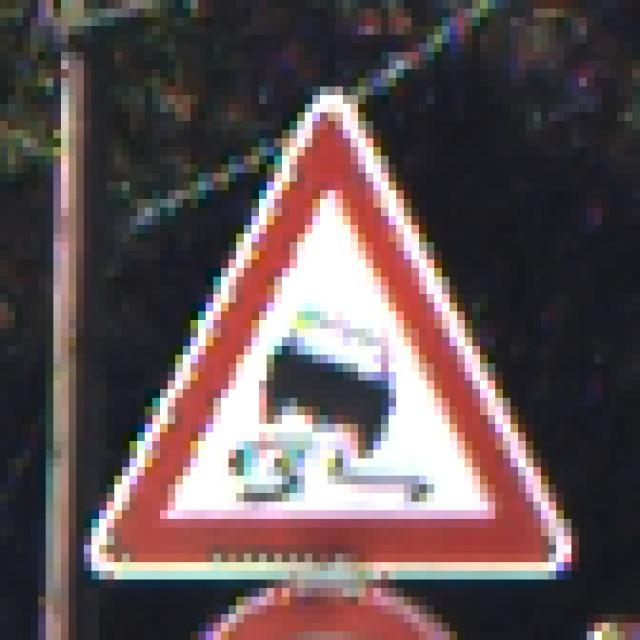slippery road: (85, 93, 569, 578)
